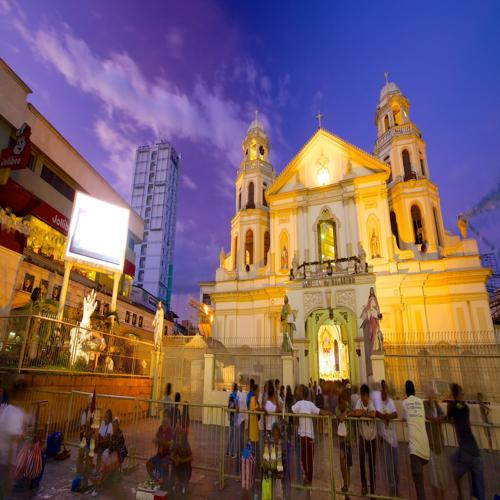Quiapo Church: (190, 71, 494, 430)
